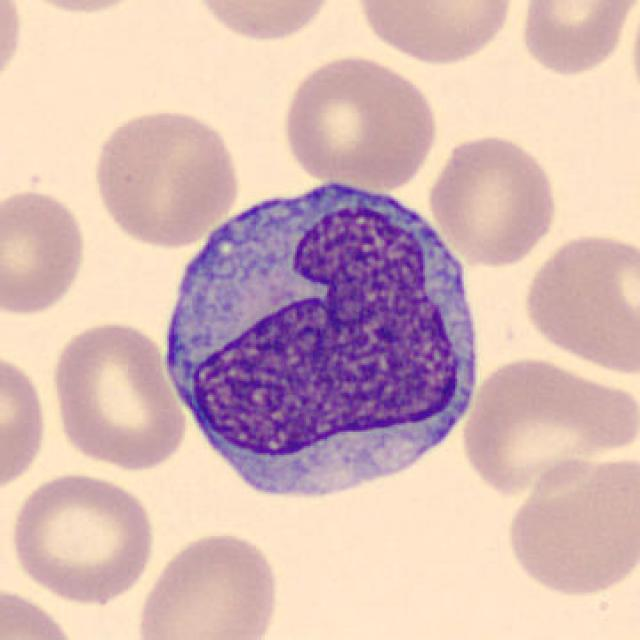Monocyte: (153, 162, 492, 513)
RBC: (457, 353, 635, 497), (87, 102, 245, 250), (277, 51, 441, 191), (46, 316, 188, 472), (5, 469, 158, 606), (502, 450, 638, 600), (423, 130, 562, 268), (519, 228, 638, 378), (133, 527, 284, 640), (0, 185, 91, 317), (350, 0, 519, 67), (513, 0, 638, 79), (0, 348, 50, 498), (187, 0, 341, 46), (0, 583, 83, 640), (0, 0, 27, 97), (4, 0, 158, 16), (627, 0, 640, 114)
